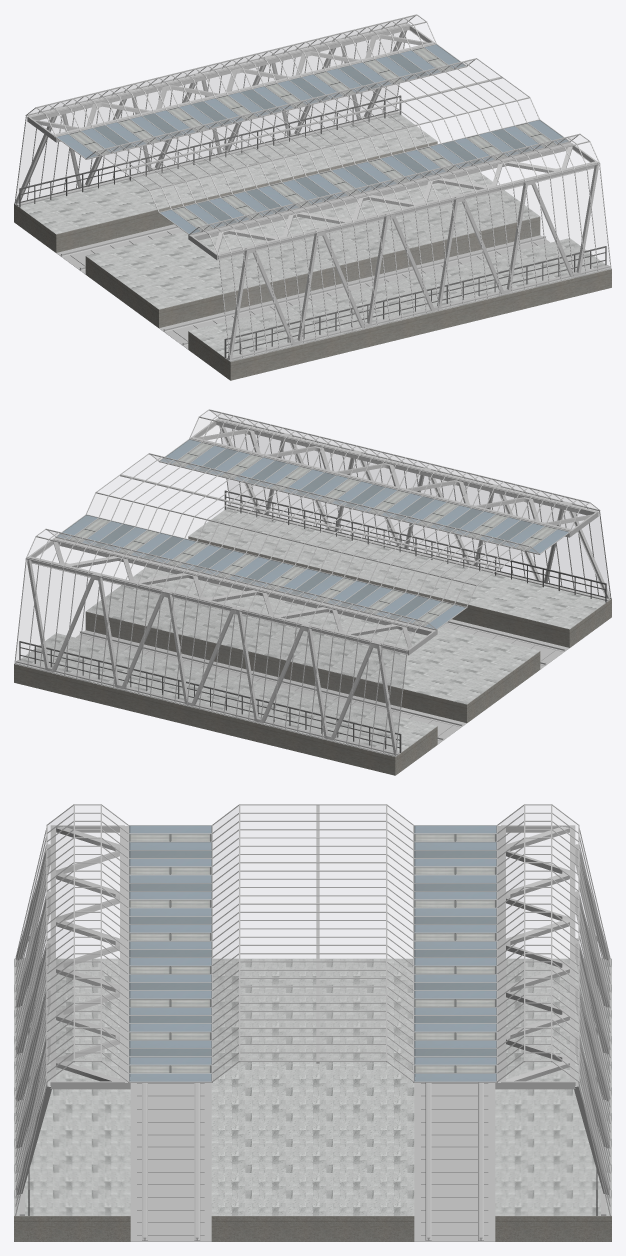
File: Station01.FBX
3 views of the same model, one above another, from view 1: azimuth 30°, elevation 25°; view 2: azimuth 150°, elevation 25°; view 3: azimuth 270°, elevation 25° (orthographic). The views are drawn at different scales.
Visible parts, largest first — view 1: Station01Glass02, Station01Floors, Station01Metall01, Station01Model, Station01Roof01, Station01Fence, Station01FloorRailway, Station01Railway; view 2: Station01Glass02, Station01Floors, Station01Metall01, Station01Model, Station01Roof01, Station01Fence, Station01FloorRailway, Station01Railway; view 3: Station01Floors, Station01Glass02, Station01Metall01, Station01Roof01, Station01Model, Station01FloorRailway, Station01Railway.
Part boxes in pixels (x1=…): Station01Glass02: x1=17, y1=15, x2=609, y2=359; Station01Floors: x1=14, y1=113, x2=611, y2=380; Station01Metall01: x1=14, y1=14, x2=611, y2=361; Station01Model: x1=15, y1=23, x2=609, y2=360; Station01Roof01: x1=57, y1=44, x2=568, y2=233; Station01Fence: x1=19, y1=95, x2=606, y2=357; Station01FloorRailway: x1=56, y1=224, x2=549, y2=349; Station01Railway: x1=60, y1=225, x2=546, y2=345; Station01Glass02: x1=16, y1=410, x2=608, y2=754; Station01Floors: x1=14, y1=508, x2=611, y2=775; Station01Metall01: x1=14, y1=409, x2=611, y2=756; Station01Model: x1=16, y1=418, x2=610, y2=755; Station01Roof01: x1=57, y1=439, x2=568, y2=628; Station01Fence: x1=19, y1=490, x2=606, y2=752; Station01FloorRailway: x1=76, y1=619, x2=569, y2=744; Station01Railway: x1=79, y1=620, x2=565, y2=740; Station01Floors: x1=14, y1=958, x2=611, y2=1241; Station01Glass02: x1=16, y1=805, x2=609, y2=1208; Station01Metall01: x1=15, y1=804, x2=610, y2=1216; Station01Roof01: x1=129, y1=825, x2=496, y2=1081; Station01Model: x1=16, y1=825, x2=609, y2=1215; Station01FloorRailway: x1=130, y1=1082, x2=495, y2=1241; Station01Railway: x1=137, y1=1082, x2=488, y2=1240.
Bounding box in the file's own units: 36006 × 11803 × 35397.
